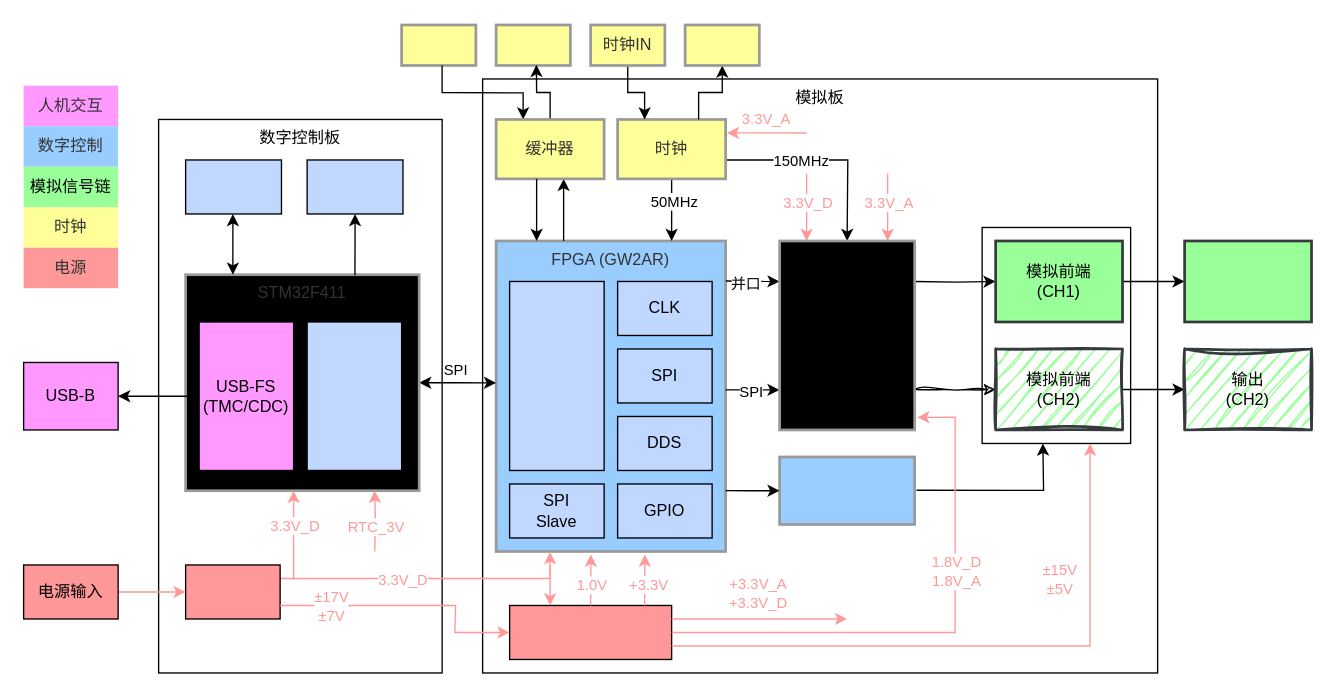
The diagram is 1337 pixels wide and 697 high, and some of its shapes have lost their labels. Here are the shapes that lost their labels. From the top down, the centre of each, then its label:
point 438,44: 多功能IN
point 532,44: 多功能OUT
point 721,44: 时钟OUT
point 232,186: 调试串口
point 354,186: EEPROM
point 1247,281: 输出 (CH1)
point 846,335: AD9747 16位双通道高速DAC
point 354,395: 参数控制 事件响应
point 556,375: SDRAM
point 846,490: 控制
point 232,591: 初级降压
point 590,631: 次级稳压
